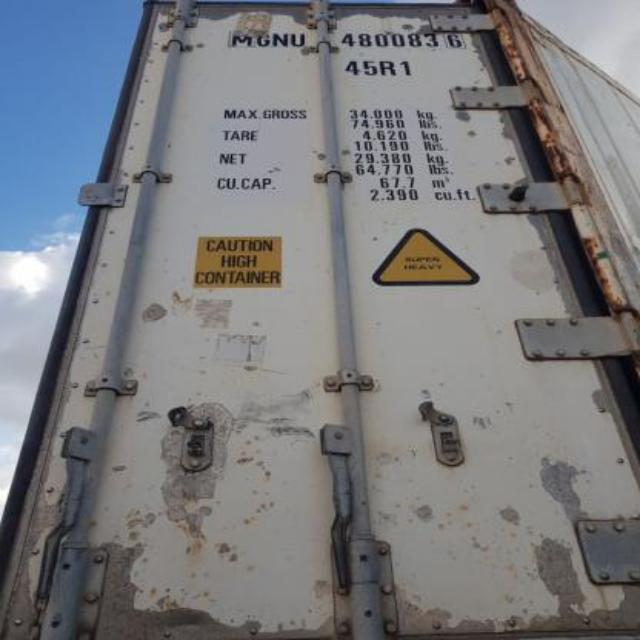0: (390, 26, 406, 50), (374, 28, 390, 50)
3: (422, 26, 438, 50)
4: (339, 28, 357, 48)
6: (442, 30, 468, 51)
8: (356, 24, 370, 52), (408, 32, 422, 52)
G: (254, 28, 272, 50)
M: (220, 30, 256, 50)
N: (273, 29, 289, 49)
U: (288, 30, 304, 51)
